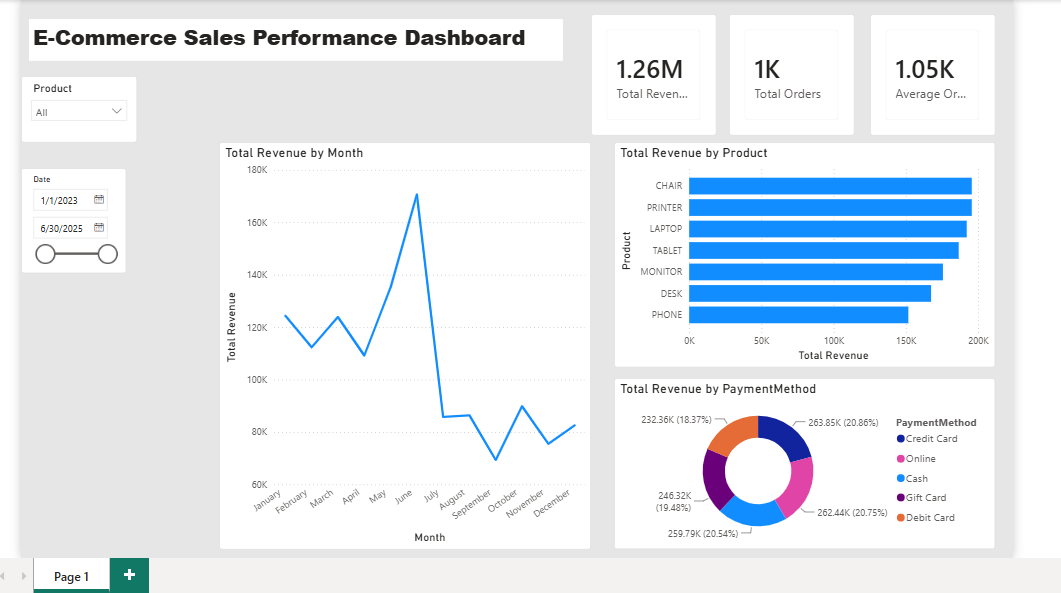

The dashboard page shown, as its layout file describes it:
{"tool":"powerbi","page":{"name":"Page 1","canvas":[1280,720],"ordinal":0},"visuals":[{"type":"textbox","box":[9.9,24.1,688.8,53.9],"z":0},{"type":"cardVisual","fields":{"Data":["clean_dataset.Total Orders"]},"box":[914.2,18.4,161.6,157.3],"z":1000},{"type":"cardVisual","fields":{"Data":["clean_dataset.Total Revenue"]},"box":[735.6,18.4,161.6,157.3],"z":2000},{"type":"cardVisual","fields":{"Data":["clean_dataset.Average Order Value"]},"box":[1095.6,18.4,161.6,157.3],"z":3000},{"type":"lineChart","fields":{"Category":["clean_dataset.Date.Variation.Date Hierarchy.Year","clean_dataset.Date.Variation.Date Hierarchy.Quarter","clean_dataset.Date.Variation.Date Hierarchy.Month","clean_dataset.Date.Variation.Date Hierarchy.Day"],"Y":["clean_dataset.Total Revenue"]},"box":[255.1,182.8,480.5,525.8],"z":4000},{"type":"clusteredBarChart","fields":{"Y":["clean_dataset.Total Revenue"],"Category":["clean_dataset.Product"]},"box":[765.4,182.8,491.8,290.6],"z":5000},{"type":"donutChart","fields":{"Category":["clean_dataset.PaymentMethod"],"Y":["clean_dataset.Total Revenue"]},"box":[765.4,487.6,491.8,221.1],"z":6000},{"type":"slicer","fields":{"Values":["clean_dataset.Product"]},"box":[0,97.4,149.5,85.7],"z":7000},{"type":"slicer","fields":{"Values":["clean_dataset.Date"]},"box":[0,216.7,136.1,136.1],"z":8000}]}

Visuals, with their boxes on the page's 1280x720 design canvas (x1, y1, x2, y2). These are canvas units, not pixel positions in the 1061x593 screenshot, which may show the page scaled, cropped or inside an application window:
textbox: [10, 24, 699, 78]
cardVisual - clean_dataset.Total Orders: [914, 18, 1076, 176]
cardVisual - clean_dataset.Total Revenue: [736, 18, 897, 176]
cardVisual - clean_dataset.Average Order Value: [1096, 18, 1257, 176]
lineChart - clean_dataset.Date.Variation.Date Hierarchy.Year x clean_dataset.Date.Variation.Date Hierarchy.Quarter: [255, 183, 736, 709]
clusteredBarChart - clean_dataset.Total Revenue x clean_dataset.Product: [765, 183, 1257, 473]
donutChart - clean_dataset.PaymentMethod x clean_dataset.Total Revenue: [765, 488, 1257, 709]
slicer - clean_dataset.Product: [0, 97, 150, 183]
slicer - clean_dataset.Date: [0, 217, 136, 353]
